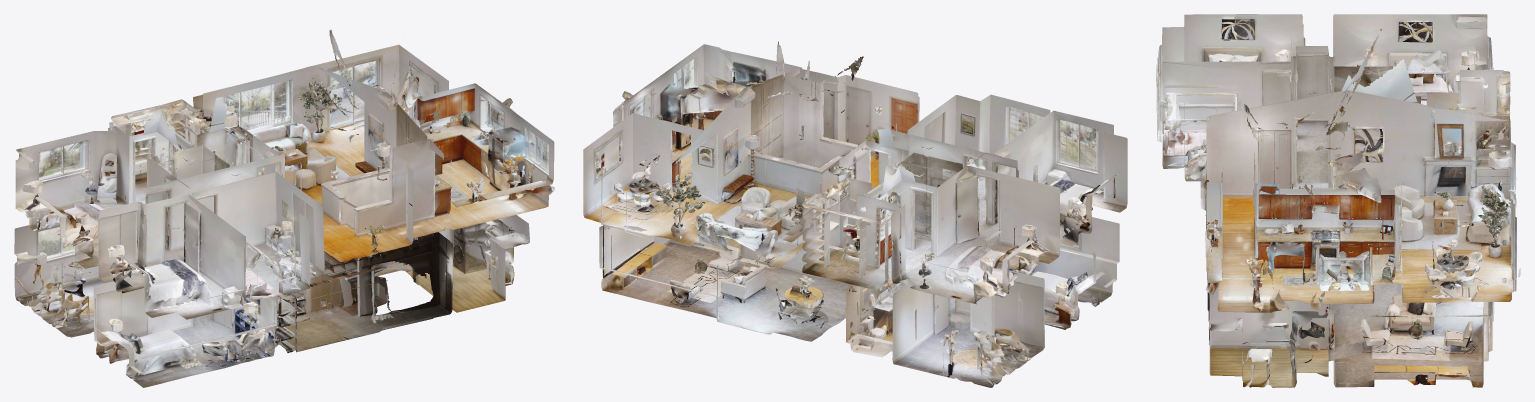
The model's file is house.glb.
3 views of the same model, side by side, from view 1: azimuth 30°, elevation 25°; view 2: azimuth 150°, elevation 25°; view 3: azimuth 270°, elevation 25° (orthographic). The views are drawn at different scales.
Visible parts, largest first — view 1: chunk001_group001_sub012_chunk262211, chunk005_group001_sub013_chunk262212, chunk004_group001_sub014_chunk262146, chunk001_group001_sub012_chunk262210, chunk004_group001_sub012_chunk262209, chunk001_group000_sub003_chunk262209, chunk003_group001_sub016_chunk262145, chunk007_group001_sub016_chunk262147, chunk001_group000_sub004_chunk262145, chunk002_group001_sub013_chunk262211, chunk002_group000_sub006_chunk262212, chunk001_group000_sub005_chunk262146 (+16 smaller); view 2: chunk001_group001_sub012_chunk262211, chunk004_group001_sub012_chunk262209, chunk005_group001_sub014_chunk262147, chunk003_group001_sub016_chunk262145, chunk000_group000_sub002_chunk262211, chunk005_group001_sub017_chunk262146, chunk000_group000_sub002_chunk262210, chunk001_group001_sub012_chunk262210, chunk001_group000_sub005_chunk262147, chunk005_group001_sub013_chunk262212, chunk001_group000_sub005_chunk262146, chunk002_group001_sub015_chunk262145 (+17 smaller); view 3: chunk001_group001_sub012_chunk262210, chunk005_group001_sub013_chunk262212, chunk004_group001_sub012_chunk262209, chunk002_group000_sub006_chunk262212, chunk000_group000_sub002_chunk262211, chunk002_group001_sub013_chunk262211, chunk002_group001_sub015_chunk262145, chunk001_group001_sub012_chunk262211, chunk000_group000_sub002_chunk262210, chunk005_group001_sub014_chunk262147, chunk003_group001_sub016_chunk262145, chunk004_group001_sub014_chunk262146 (+11 smaller).
Boxes of the visible parts, box(x1,y1,x2,y2) form: chunk001_group001_sub012_chunk262211: box(304, 44, 448, 175); chunk005_group001_sub013_chunk262212: box(400, 98, 554, 230); chunk004_group001_sub014_chunk262146: box(15, 126, 129, 231); chunk001_group001_sub012_chunk262210: box(193, 30, 384, 205); chunk004_group001_sub012_chunk262209: box(284, 78, 428, 262); chunk001_group000_sub003_chunk262209: box(278, 237, 432, 344); chunk003_group001_sub016_chunk262145: box(120, 206, 245, 319); chunk007_group001_sub016_chunk262147: box(98, 194, 204, 293); chunk001_group000_sub004_chunk262145: box(118, 295, 277, 387); chunk002_group001_sub013_chunk262211: box(395, 65, 512, 180); chunk002_group000_sub006_chunk262212: box(402, 215, 529, 312); chunk001_group000_sub005_chunk262146: box(14, 222, 113, 319); chunk001_group001_sub012_chunk262211: box(583, 79, 757, 241); chunk004_group001_sub012_chunk262209: box(765, 56, 919, 197); chunk005_group001_sub014_chunk262147: box(916, 166, 1060, 270); chunk003_group001_sub016_chunk262145: box(1009, 110, 1127, 229); chunk000_group000_sub002_chunk262211: box(599, 225, 753, 311); chunk005_group001_sub017_chunk262146: box(802, 177, 899, 290); chunk000_group000_sub002_chunk262210: box(688, 249, 848, 340); chunk001_group001_sub012_chunk262210: box(678, 41, 821, 266); chunk001_group000_sub005_chunk262147: box(920, 270, 1044, 367); chunk005_group001_sub013_chunk262212: box(629, 44, 802, 168); chunk001_group000_sub005_chunk262146: box(892, 284, 1019, 387); chunk002_group001_sub015_chunk262145: box(923, 94, 1050, 205); chunk001_group001_sub012_chunk262210: box(1335, 29, 1516, 253); chunk005_group001_sub013_chunk262212: box(1205, 159, 1337, 312); chunk004_group001_sub012_chunk262209: box(1206, 92, 1337, 248); chunk002_group000_sub006_chunk262212: box(1208, 287, 1334, 387); chunk000_group000_sub002_chunk262211: box(1335, 302, 1492, 387); chunk002_group001_sub013_chunk262211: box(1335, 82, 1403, 303); chunk002_group001_sub015_chunk262145: box(1157, 61, 1258, 181); chunk001_group001_sub012_chunk262211: box(1335, 108, 1520, 302); chunk000_group000_sub002_chunk262210: box(1335, 283, 1494, 340); chunk005_group001_sub014_chunk262147: box(1327, 14, 1424, 123); chunk003_group001_sub016_chunk262145: box(1156, 14, 1258, 112); chunk004_group001_sub014_chunk262146: box(1423, 14, 1493, 105).
Bounding box in the file's own units: 15.5 × 8.46 × 10.14.
8 materials, 8 textured.
